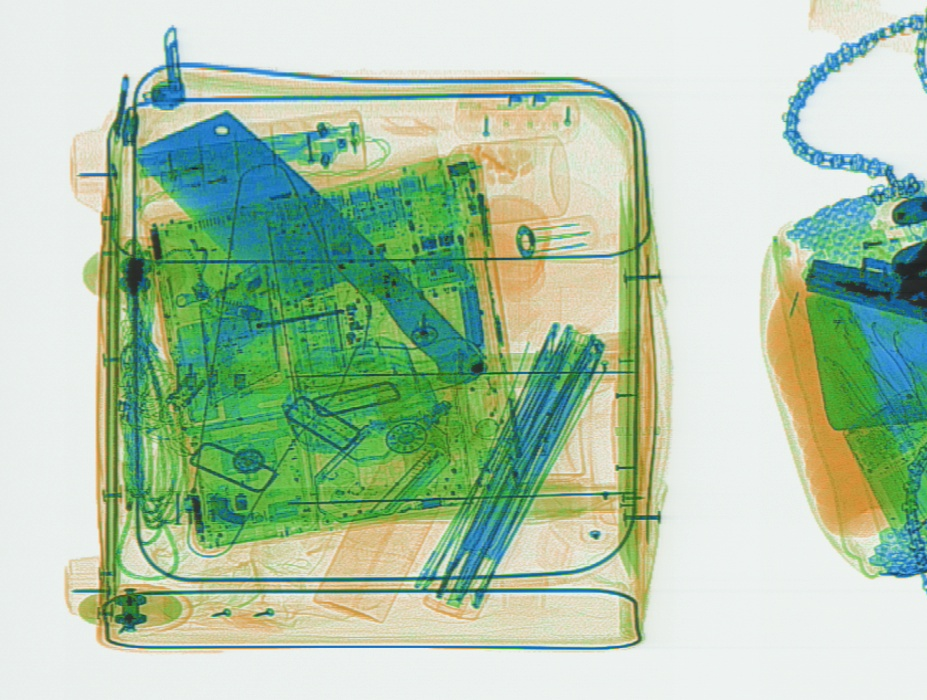knife: (130, 106, 486, 383)
